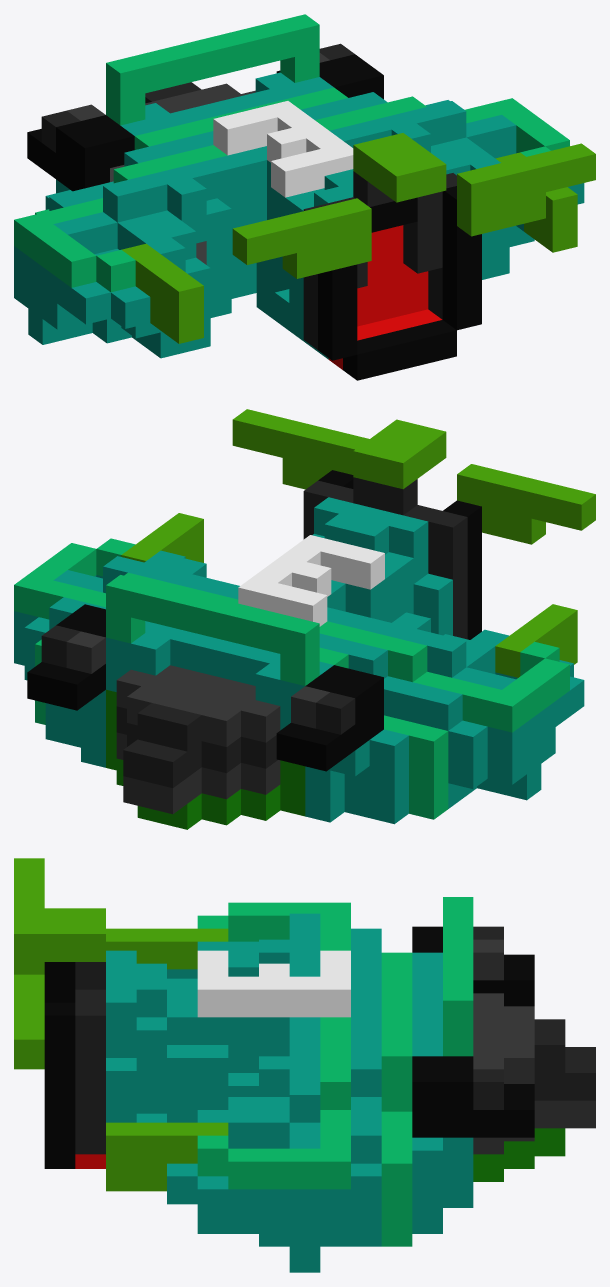
Rendered from SpaceshipVenture3.obj.
3 views of the same model, one above another, from view 1: azimuth 30°, elevation 25°; view 2: azimuth 150°, elevation 25°; view 3: azimuth 270°, elevation 25° (orthographic). The views are drawn at different scales.
Bounding box in the file's own units: 20 × 8 × 19.
